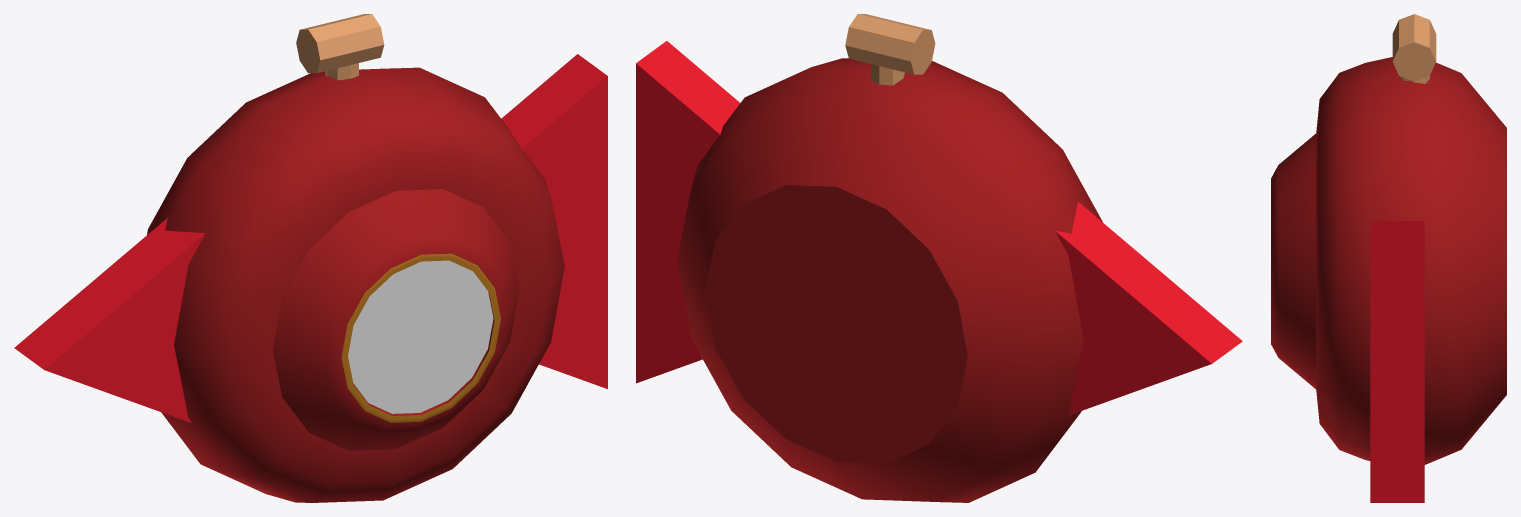
The model's file is CLOCK-3.fbx.
3 renders of one model, left to right at view 1: azimuth 30°, elevation 25°; view 2: azimuth 150°, elevation 25°; view 3: azimuth 270°, elevation 25°, orthographic. The views are drawn at different scales.
Parts seen in each view (by area): view 1: Clock - C; view 2: Clock - C; view 3: Clock - C.
Boxes of the visible parts, <box> form: Clock - C: <box>14,14,607,502</box>; Clock - C: <box>636,14,1242,502</box>; Clock - C: <box>1271,14,1506,502</box>.
Size of the model in its own units: 0.3429 by 0.2727 by 0.1381.
